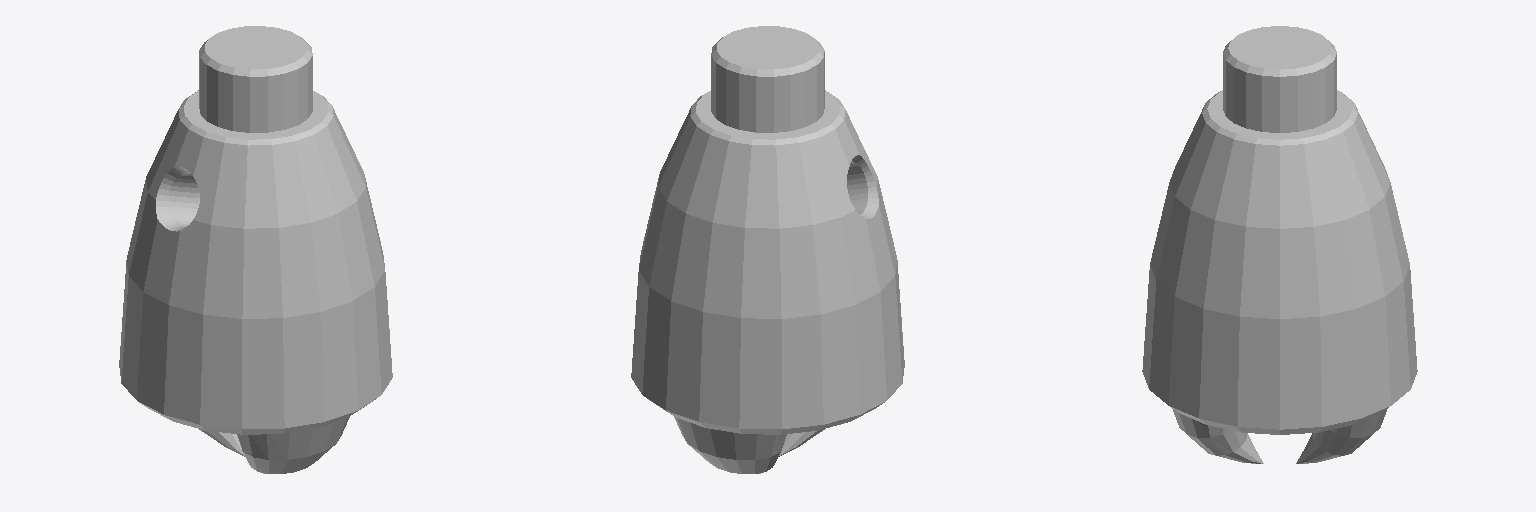
The model's file is JosephHandRight.obj.
The picture shows the model from 3 angles: view 1: azimuth 30°, elevation 25°; view 2: azimuth 150°, elevation 25°; view 3: azimuth 270°, elevation 25°; orthographic projection.
Parts seen in each view (by area): view 1: HandRight; view 2: HandRight; view 3: HandRight.
Boxes of the visible parts, x1,y1,x2,y2 form: HandRight: [119, 26, 392, 473]; HandRight: [631, 26, 904, 473]; HandRight: [1142, 26, 1417, 463].
Bounding box in the file's own units: 0.2551 × 0.4259 × 0.2551.